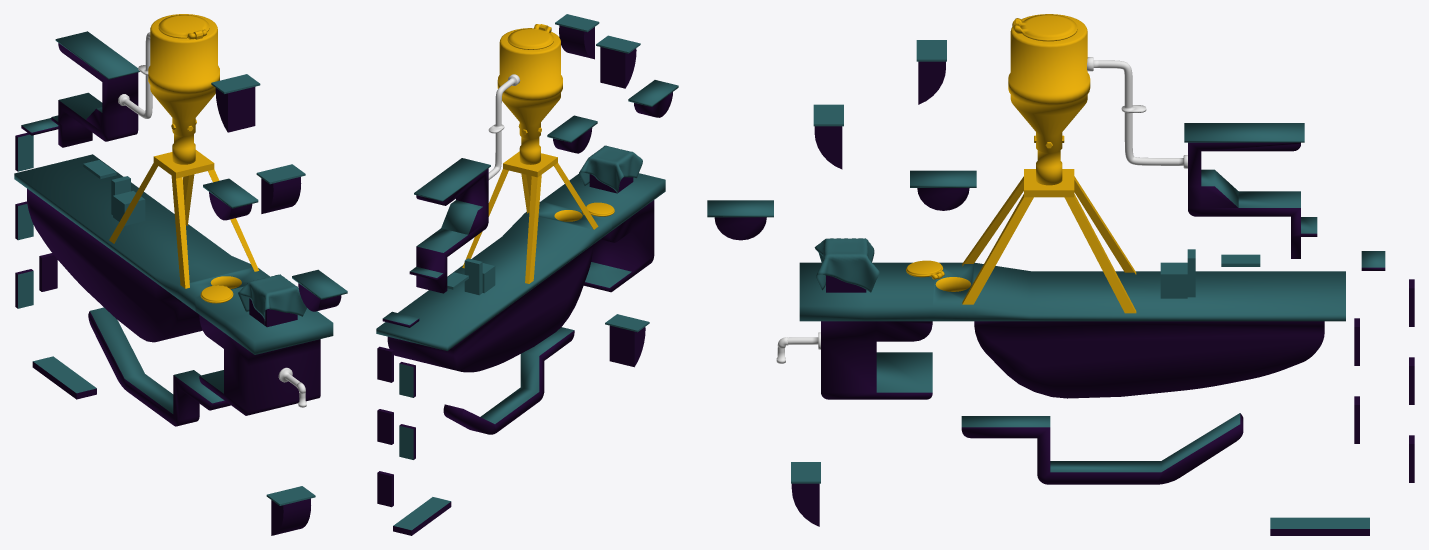
Rendered from tank_mayham.glb.
The picture shows the model from 3 angles, left to right: view 1: azimuth 30°, elevation 25°; view 2: azimuth 150°, elevation 25°; view 3: azimuth 270°, elevation 25°; orthographic projection. The views are drawn at different scales.
Visible parts, largest first — view 1: main_stage, right_side_piece, tank, platform_under, tank_feet, walljump_platforms, platform_half_2, cloth, platform_half, platform_half_3, platform_2, platform (+7 smaller); view 2: main_stage, right_side_piece, tank, platform_under, tank_feet, walljump_platforms, cloth, platform_half_3, platform_half, platform_half_2, platform, platform_2 (+5 smaller); view 3: main_stage, right_side_piece, tank, platform_under, tank_feet, cloth, platform, platform_2, platform_under_2, pipe, platform_half, platform_half_2 (+4 smaller).
Part boxes in pixels (x1,y1,x2,y2): main_stage: (14,154,333,415); right_side_piece: (21,31,139,147); tank: (148,14,219,164); platform_under: (88,307,230,426); tank_feet: (109,150,258,288); walljump_platforms: (15,132,57,308); platform_half_2: (211,74,260,132); cloth: (238,274,306,324); platform_half: (256,164,305,213); platform_half_3: (266,486,315,535); platform_2: (292,269,347,311); platform: (203,178,258,220); main_stage: (376,173,665,372); right_side_piece: (382,158,490,327); tank: (497,28,562,164); platform_under: (443,327,574,434); tank_feet: (462,151,598,283); walljump_platforms: (377,346,415,507); cloth: (579,145,642,193); platform_half_3: (605,314,649,367); platform_half: (596,35,640,88); platform_half_2: (555,14,599,59); platform: (547,115,597,153); platform_2: (628,80,678,117); main_stage: (799,262,1345,399); right_side_piece: (1184,123,1385,270); tank: (1008,14,1090,185); platform_under: (961,413,1243,484); tank_feet: (962,169,1136,313); cloth: (814,238,879,292); platform: (910,170,976,210); platform_2: (707,200,773,240); platform_under_2: (1270,517,1369,535); pipe: (1087,57,1187,168); platform_half: (813,104,843,169); platform_half_2: (916,40,946,104).
Size of what is drawn, in the model's own units: 9.91 by 54.01 by 68.08.
